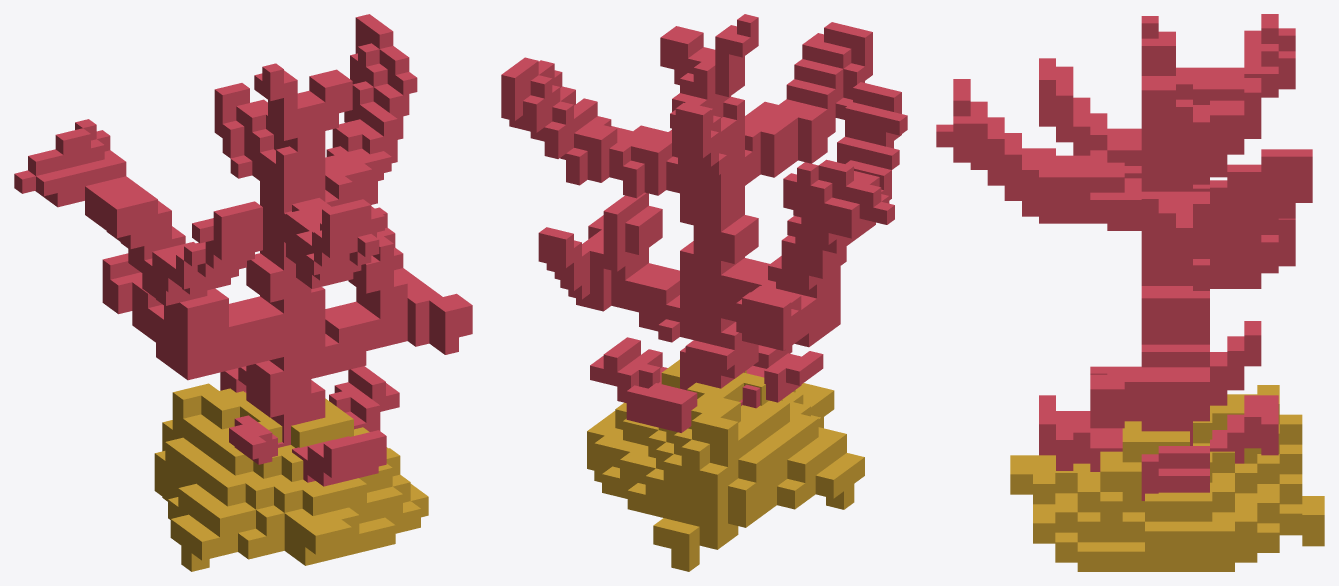
Rendered from Coral_01a.fbx.
The picture shows the model from 3 angles, left to right: view 1: azimuth 30°, elevation 25°; view 2: azimuth 150°, elevation 25°; view 3: azimuth 270°, elevation 25°; orthographic projection. The views are drawn at different scales.
Parts seen in each view (by area): view 1: Sphere; view 2: Sphere; view 3: Sphere.
Part boxes in pixels (left/top/right/bottom): Sphere: left=14, top=14, right=472, bottom=571; Sphere: left=501, top=14, right=907, bottom=571; Sphere: left=936, top=14, right=1324, bottom=571.
Bounding box in the file's own units: 296 × 352 × 445.
